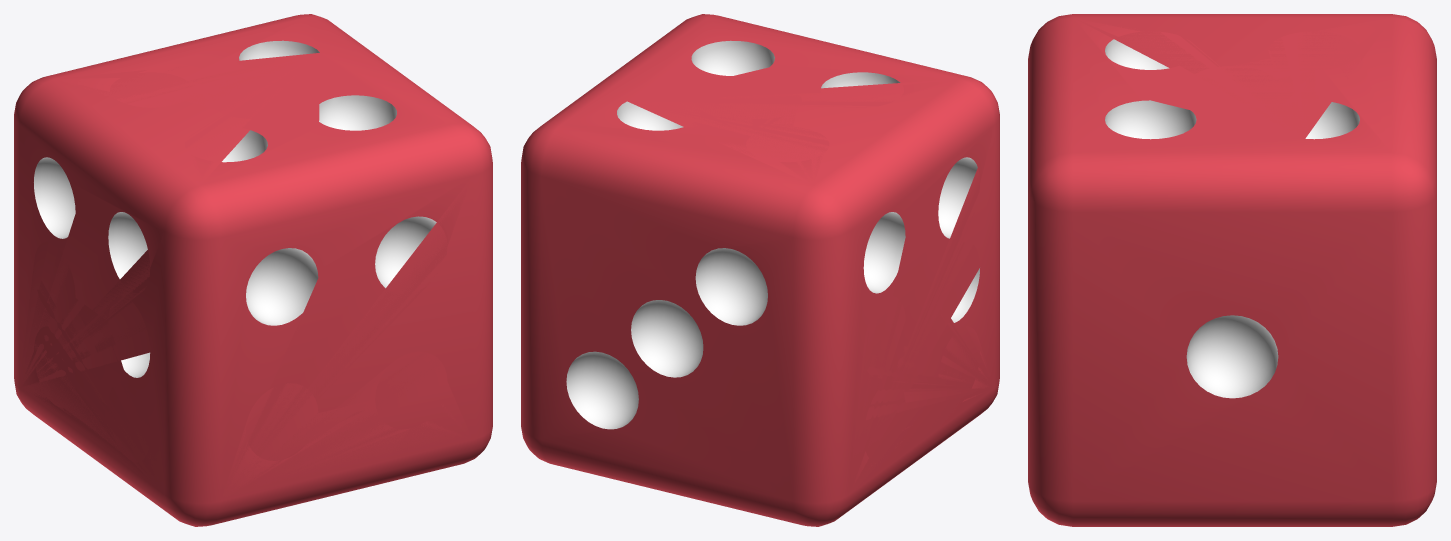
The model's file is Dice.fbx.
3 views of the same model, side by side, from view 1: azimuth 30°, elevation 25°; view 2: azimuth 150°, elevation 25°; view 3: azimuth 270°, elevation 25° (orthographic). The views are drawn at different scales.
Parts seen in each view (by area): view 1: Dice; view 2: Dice; view 3: Dice.
Boxes of the visible parts, x1,y1,x2,y2 form: Dice: (14,14,492,526); Dice: (521,14,999,526); Dice: (1028,14,1436,526).
Bounding box in the file's own units: 200 × 200 × 200.
